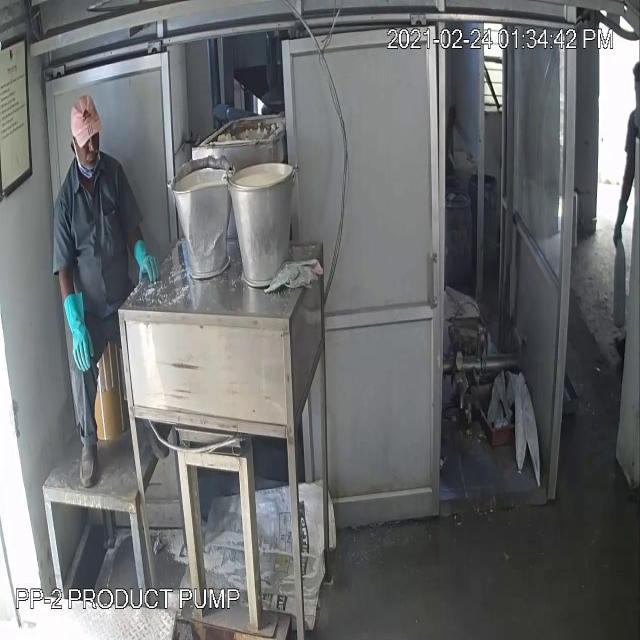no-helmet: (57, 91, 113, 151)
